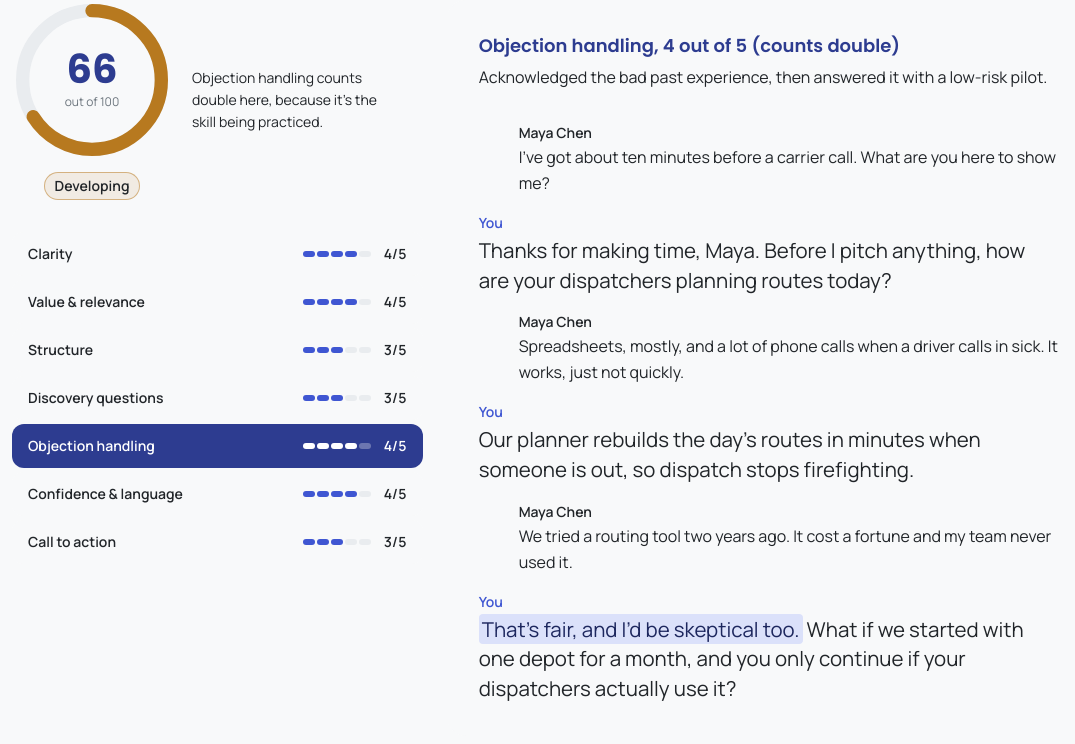
Test: EvidenceExplorer › marks the words behind the score you pick
Click the button "Discovery questions 3/5" at (96, 398), box x1=12 y1=376 x2=423 y2=420
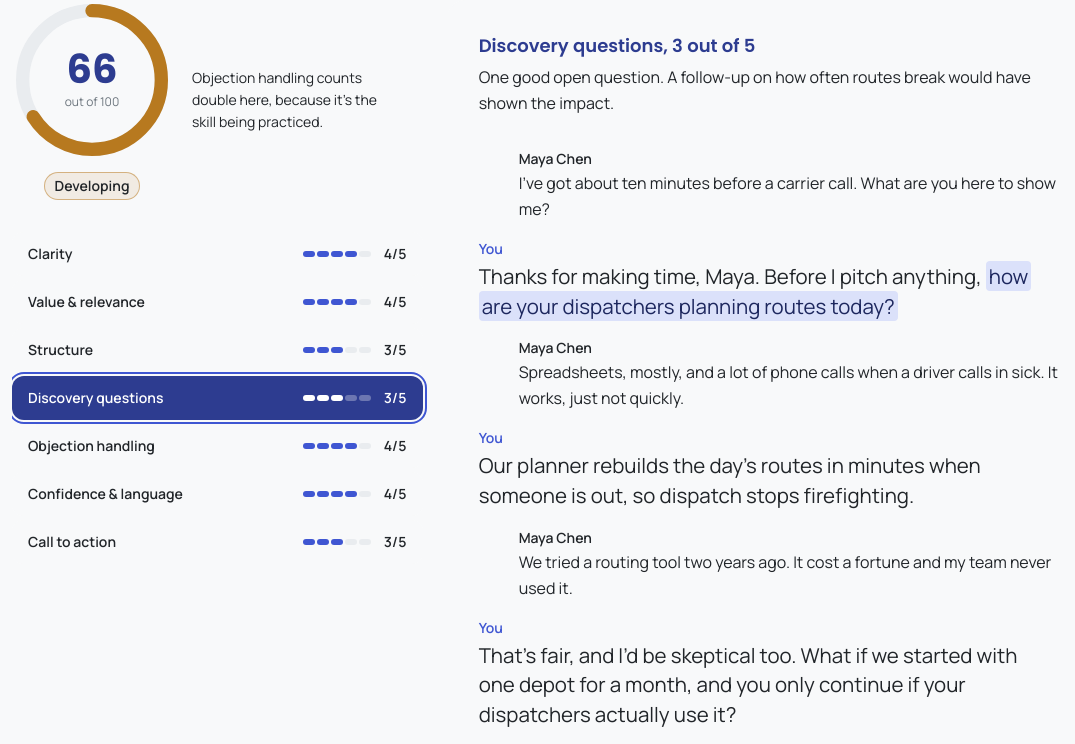
Result: the text "how are your dispatchers planning routes today?" is shown at x1=479 y1=261 x2=1031 y2=321
Result: the text "Discovery questions, 3 out of 5" is shown at x1=479 y1=33 x2=756 y2=58
